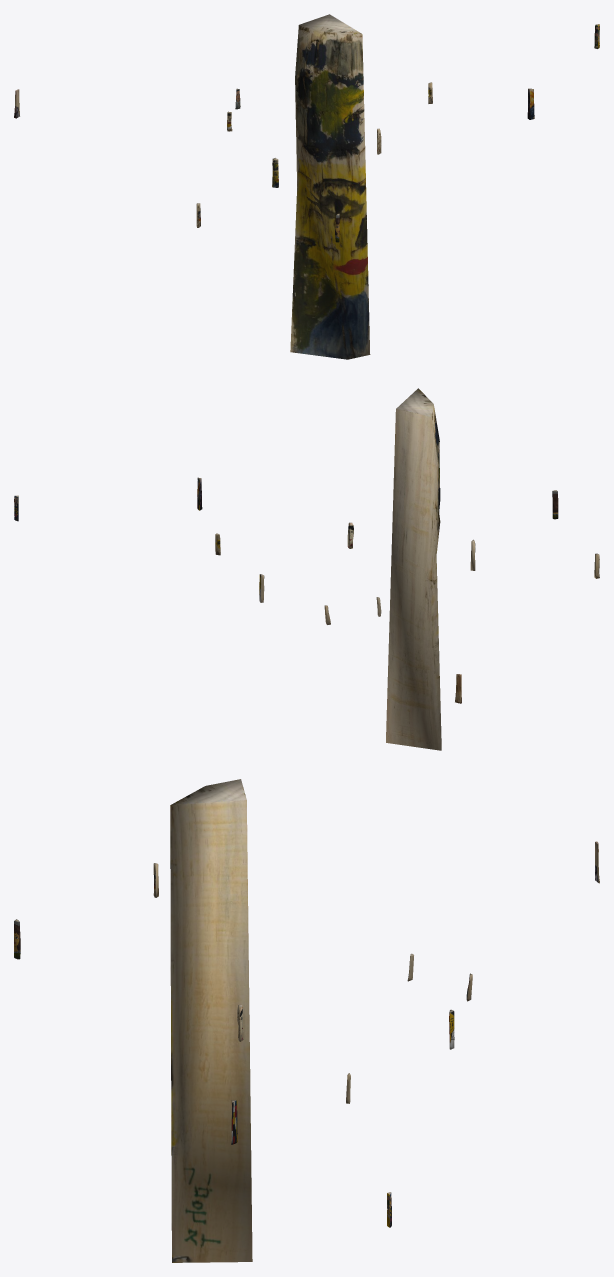
Rendered from exhibition_sample.obj.
3 views of the same model, one above another, from view 1: azimuth 30°, elevation 25°; view 2: azimuth 150°, elevation 25°; view 3: azimuth 270°, elevation 25° (orthographic). The views are drawn at different scales.
Visible parts, largest first — view 1: 481_GP_KEJ124_481_GP_KEJ124_481_GP_KEJ124; view 2: 481_GP_KEJ124_481_GP_KEJ124_481_GP_KEJ124; view 3: 481_GP_KEJ124_481_GP_KEJ124_481_GP_KEJ124.
Part boxes in pixels (box(x1,y1,x2,y2)): 481_GP_KEJ124_481_GP_KEJ124_481_GP_KEJ124: box(290, 14, 370, 359); 481_GP_KEJ124_481_GP_KEJ124_481_GP_KEJ124: box(386, 388, 441, 750); 481_GP_KEJ124_481_GP_KEJ124_481_GP_KEJ124: box(170, 779, 252, 1262).
Size of what is drawn, in the model's own units: 677 by 413 by 480.
